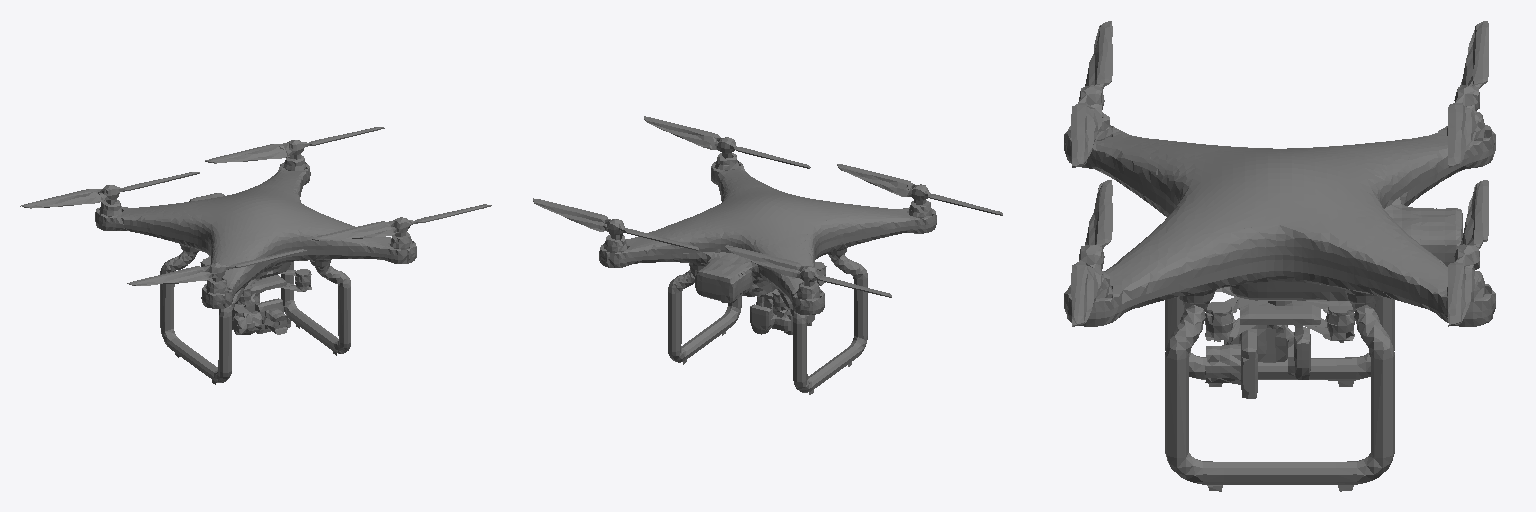
URDF robot description (drone):
<?xml version="1.0" ?>
<robot name="drone">
  <link name="body">
  <contact>
      <lateral_friction value="1"/>
  </contact>
    <collision>
      <origin xyz="+0.0 +0.0 +0.0" rpy="0 0 0" />
      <geometry>
        <mesh scale="1 1 1" filename="drone/drone.stl"/>
      </geometry>
       <material name="grey">
        <color rgba="0.5 0.5 0.5 0.5"/>
      </material>
    </collision>
    <visual>
      <origin xyz="+0.0 +0.0 +0.0" rpy="0 0 0"/>
      <geometry>
        <mesh scale="1 1 1" filename="drone/drone.stl"/>
      </geometry>
       <material name="grey">
        <color rgba="0.5 0.5 0.5 0.5"/>
      </material>
    </visual>
    <inertial>
      <mass value="10"/>
      <inertia ixx="1e-6" ixy="0.0" ixz="0.0" iyy="0.083" iyz="0.0" izz="0.083"/>
    </inertial>
  </link>
</robot>

--- What the picture shows (computed from the rendered views, not written in the file) ---
The picture shows the robot from 3 angles, left to right: view 1: azimuth 30°, elevation 25°; view 2: azimuth 150°, elevation 25°; view 3: azimuth 270°, elevation 25°; orthographic projection.
Robot: drone — 1 links, 0 joints (none); root link body; default pose: every joint at zero.
Links seen in each view (by area): view 1: body; view 2: body; view 3: body.
Boxes of the visible links, x1,y1,x2,y2 form: body: [20, 127, 491, 384]; body: [533, 116, 1002, 394]; body: [1064, 21, 1495, 491].
Size in the robot's own frame: 193 by 115 by 80.45 metres.
1 mesh visuals loaded from 1 distinct referenced files (1 binary STL).
